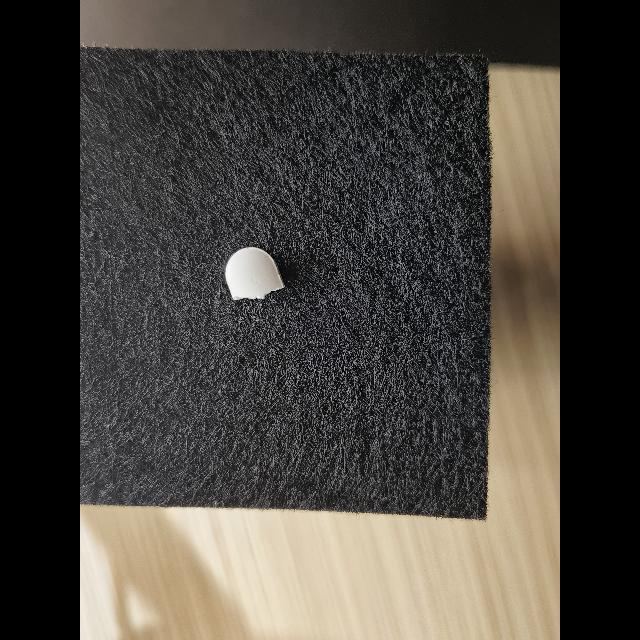Chipped Pill: (225, 247, 285, 300)
